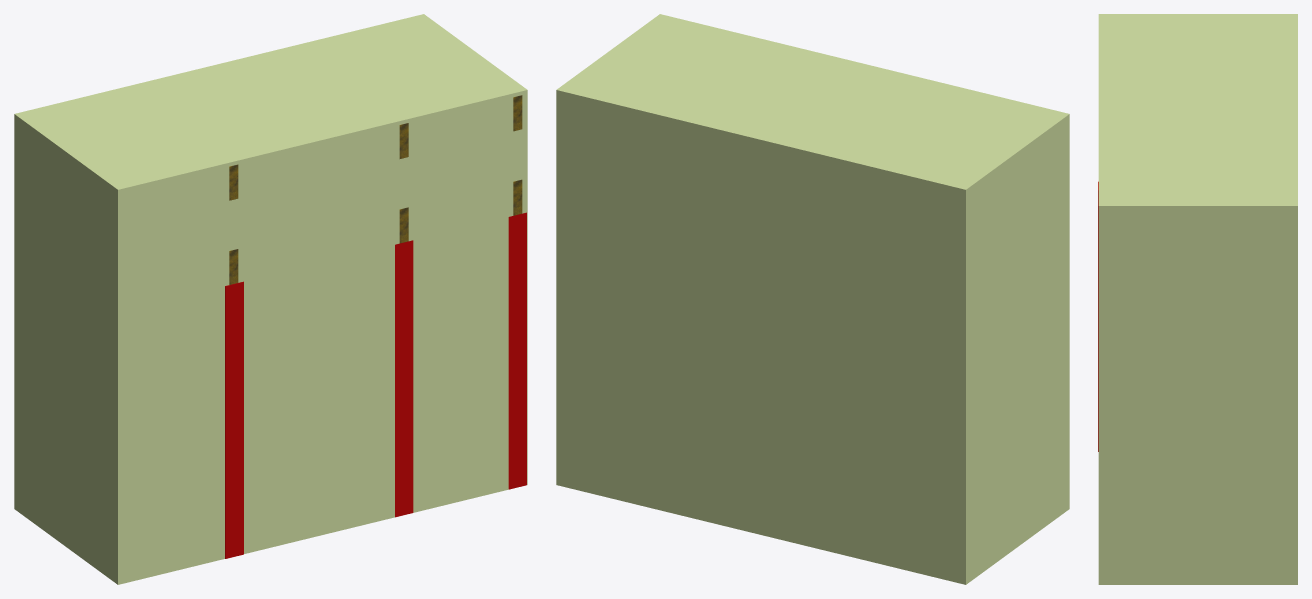
File: SciFi_walkway_02.DAE
3 renders of one model, left to right at view 1: azimuth 30°, elevation 25°; view 2: azimuth 150°, elevation 25°; view 3: azimuth 270°, elevation 25°, orthographic. The views are drawn at different scales.
Visible parts, largest first — view 1: bounds, colbox-03, colbox-05, colbox-04, walkway_two; view 2: bounds; view 3: bounds.
Boxes of the visible parts, left/top/right/bottom form: bounds: left=14, top=14, right=527, bottom=584; colbox-03: left=225, top=281, right=243, bottom=558; colbox-05: left=508, top=212, right=526, bottom=489; colbox-04: left=395, top=240, right=413, bottom=517; walkway_two: left=229, top=95, right=522, bottom=284; bounds: left=556, top=14, right=1069, bottom=584; bounds: left=1098, top=14, right=1297, bottom=584.
Bounding box in the file's own units: 721 × 317 × 665.
